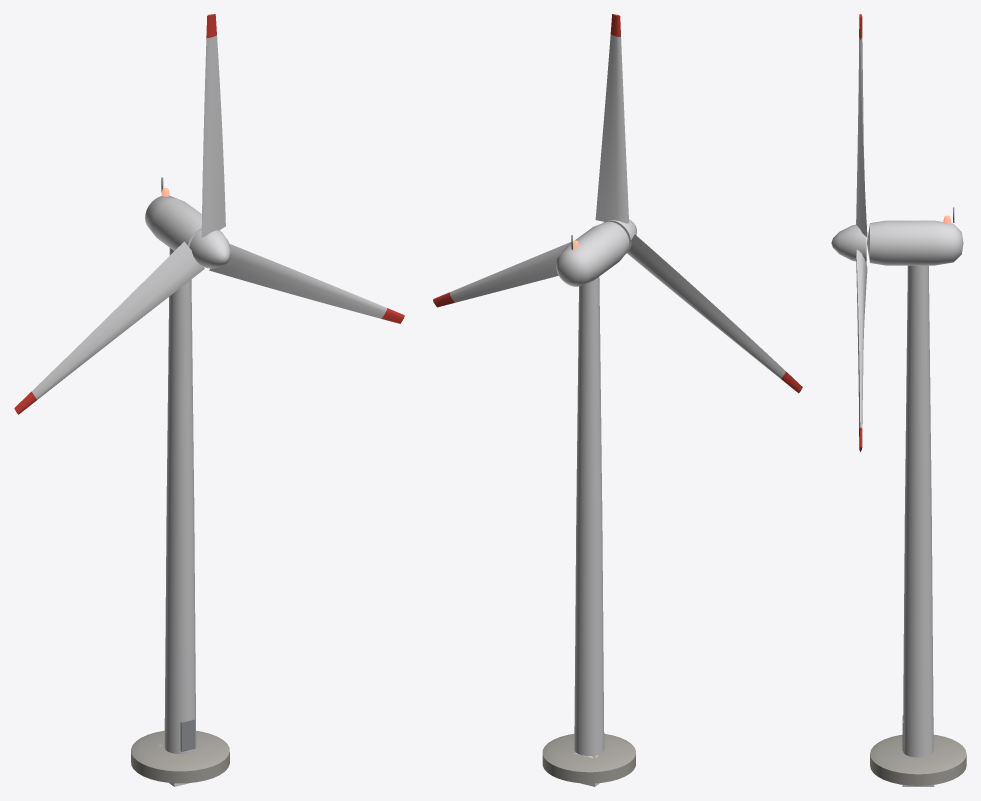
Rendered from Wind50.fbx.
3 renders of one model, left to right at view 1: azimuth 30°, elevation 25°; view 2: azimuth 150°, elevation 25°; view 3: azimuth 270°, elevation 25°, orthographic. The views are drawn at different scales.
Visible parts, largest first — view 1: Body__White, Rotor__White, Body__Concrete, Rotor__Red; view 2: Body__White, Rotor__White, Body__Concrete; view 3: Body__White, Body__Concrete, Rotor__White.
Boxes of the visible parts, <box> form: Body__White: <box>145,195,201,754</box>; Rotor__White: <box>31,35,386,399</box>; Body__Concrete: <box>131,730,229,783</box>; Rotor__Red: <box>14,14,404,414</box>; Body__White: <box>556,221,629,755</box>; Rotor__White: <box>450,34,786,378</box>; Body__Concrete: <box>542,733,635,783</box>; Body__White: <box>867,220,963,757</box>; Body__Concrete: <box>870,734,966,785</box>; Rotor__White: <box>831,37,867,428</box>.
Size of the model in its own units: 13.66 by 26.2 by 4.2.
